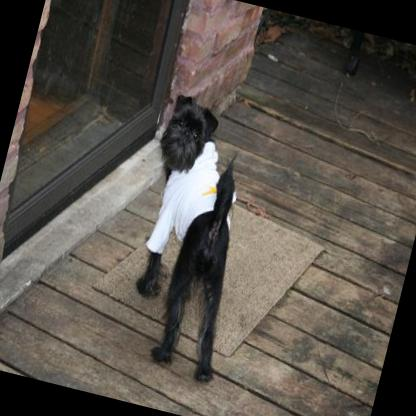affenpinscher: (107, 84, 278, 386)
